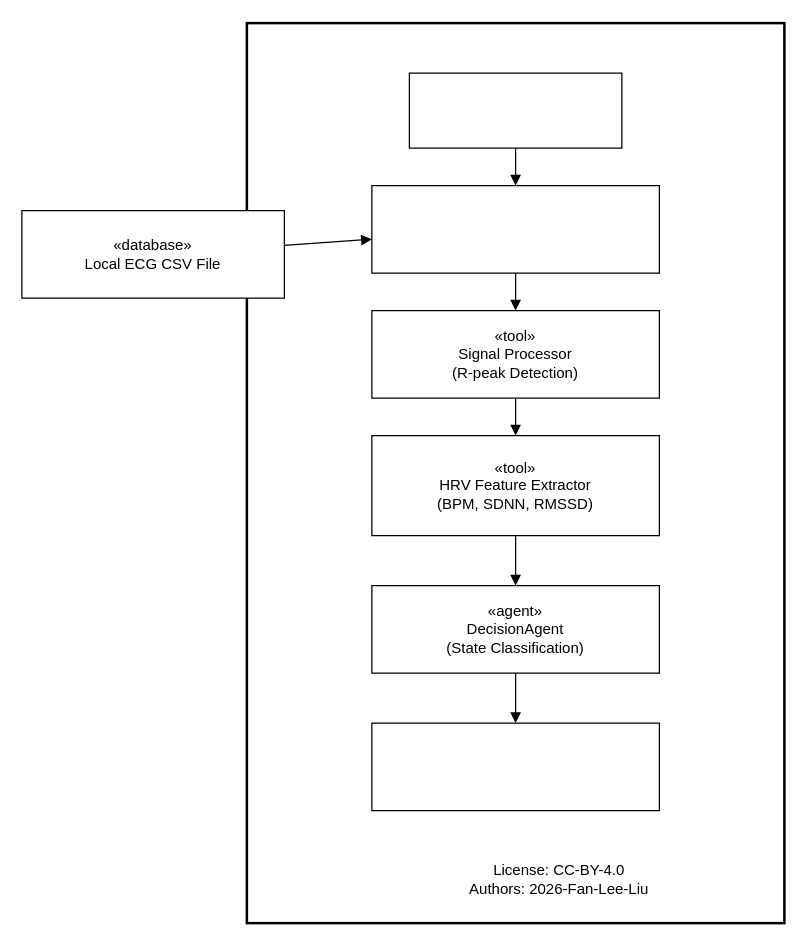
Some shapes in this 808 by 945 pixel diagram are drawn without their labels. Each missing label, with the centre of its shape:
"«agent» ActionAgent (Recommendation Output)" belongs at (x=515, y=766).
"«agent» Orchestrator" belongs at (x=515, y=110).
"«tool» CSV ECG Loader (pandas.read_csv)" belongs at (x=515, y=228).
